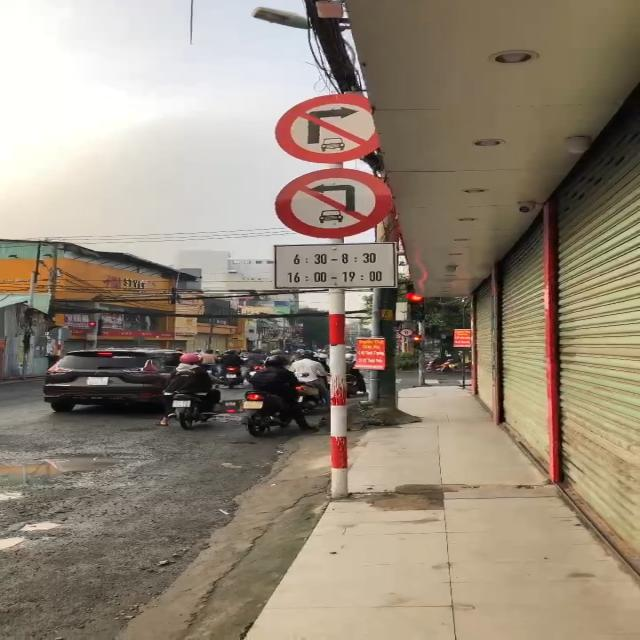Bien bao cam xe o to re phai: (272, 90, 405, 167)
Bien bao cam xe o to re trai: (272, 167, 402, 243)
